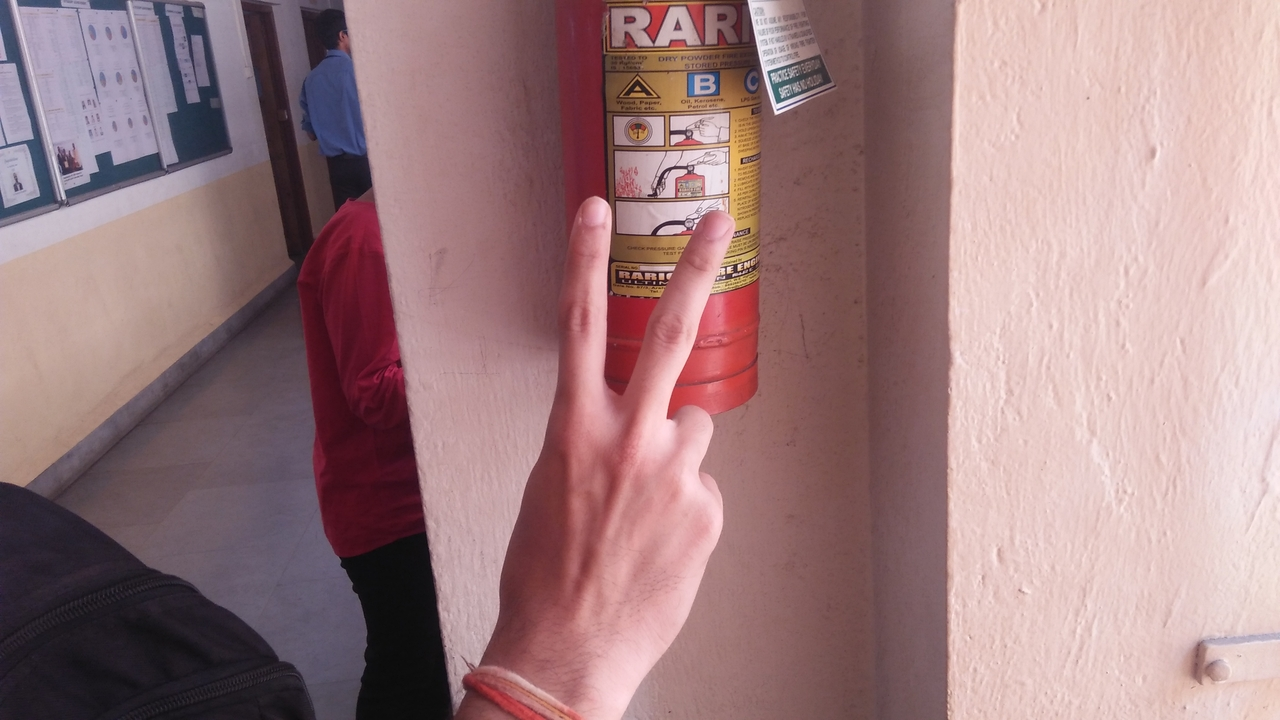fingertip: (566, 188, 616, 240), (686, 198, 736, 250)
